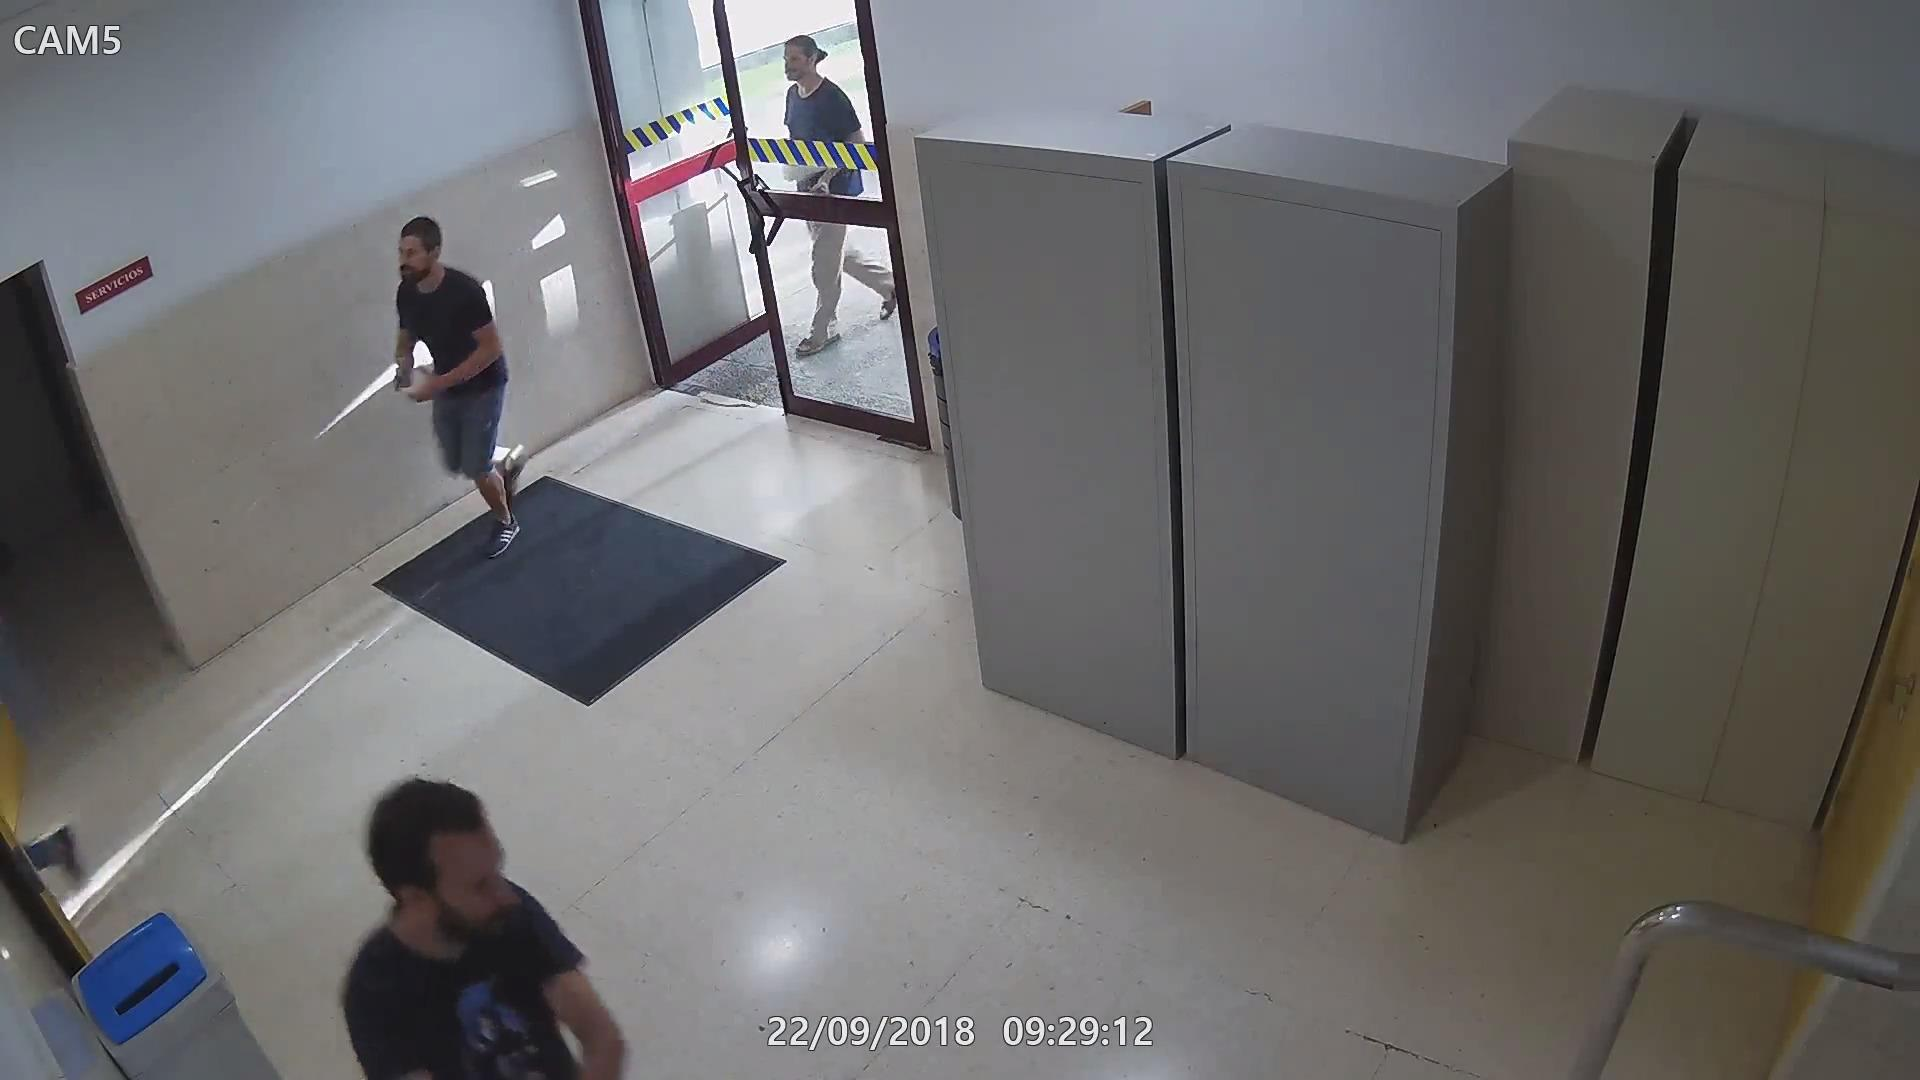Handgun: (386, 359, 429, 407)
